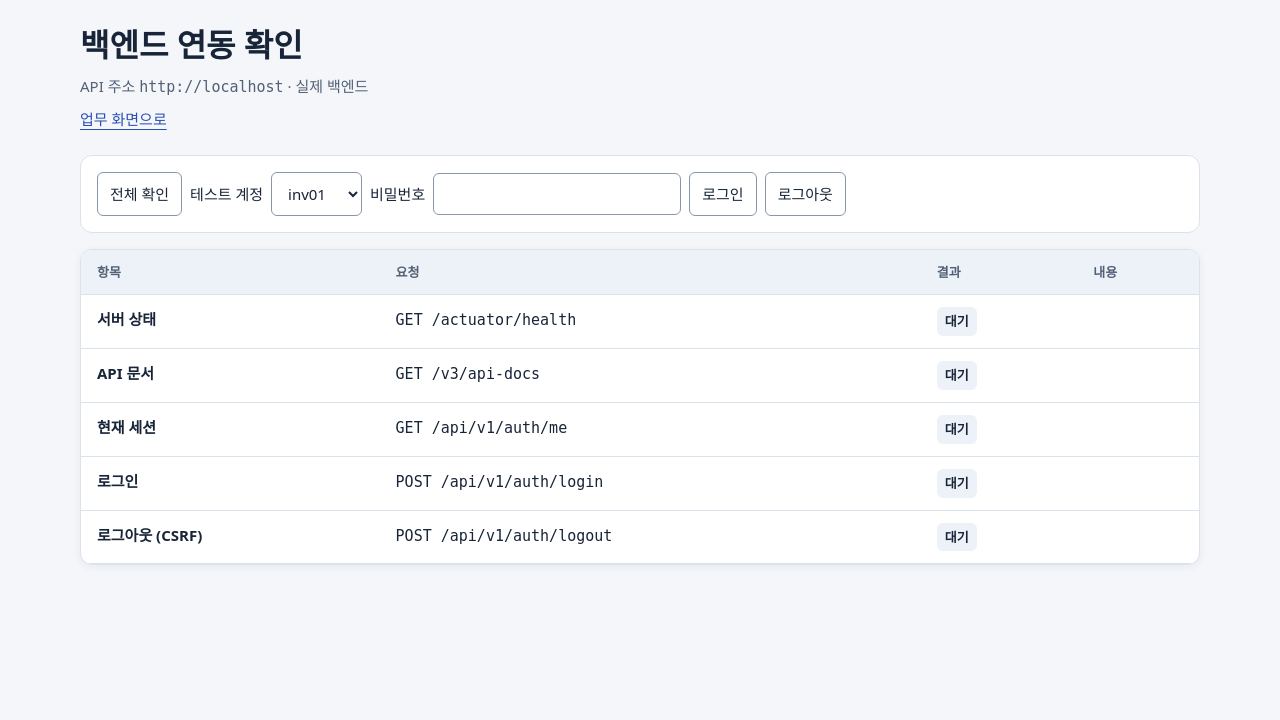
Test case: 백엔드 연동 확인 › 비밀번호가 틀리면 LOGIN_FAILED를 실패로 보여 준다
In the password field labelled "비밀번호": [557, 194] box x1=433 y1=173 x2=681 y2=215, type "wrong-password"
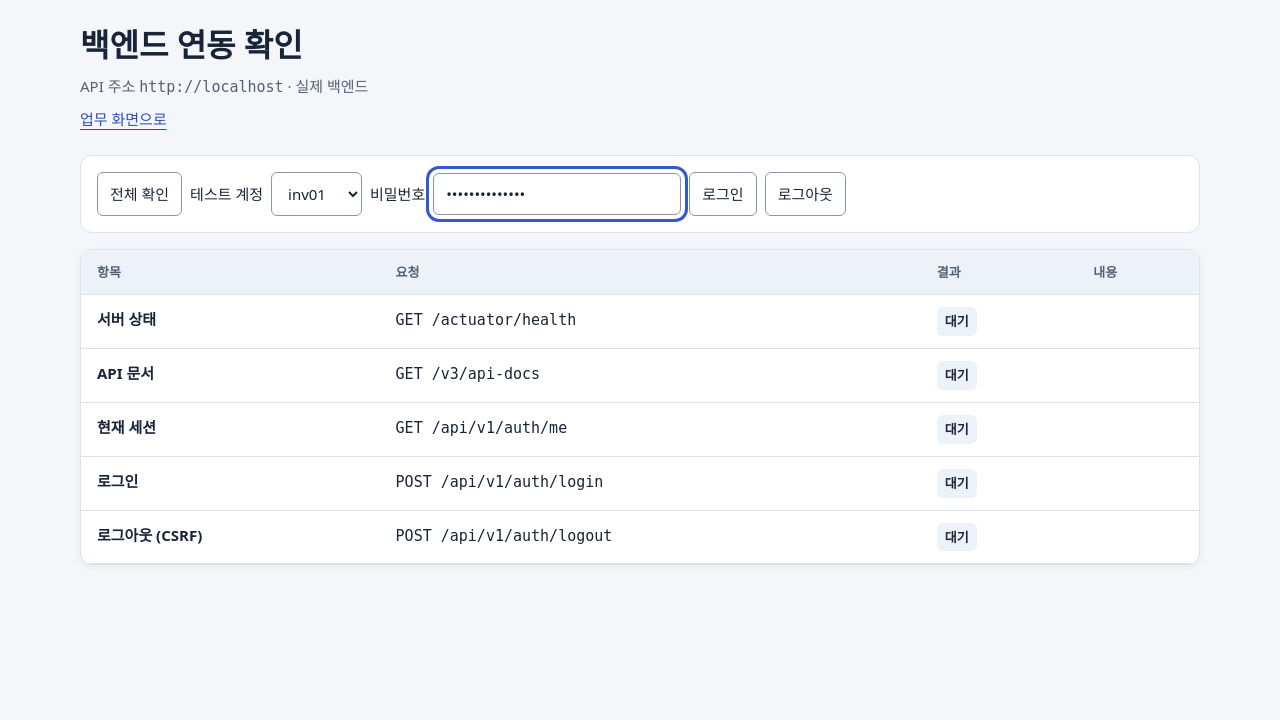
Click the button "로그인": [723, 194] box x1=689 y1=172 x2=757 y2=216
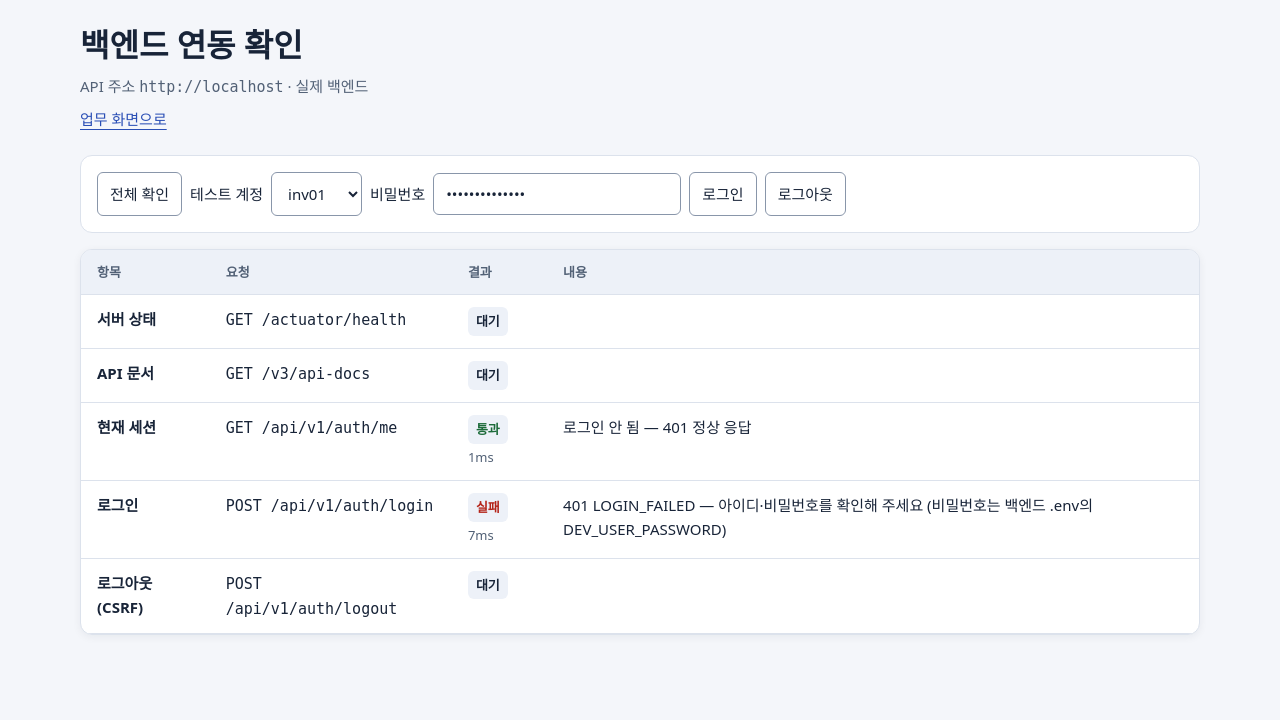
Now the text "401 LOGIN_FAILED" is shown, box x1=563 y1=495 x2=1093 y2=539
Now the text "실패" is shown, box x1=468 y1=493 x2=508 y2=522
